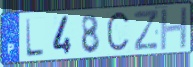4: (51, 14, 75, 58)
8: (80, 14, 102, 55)
C: (105, 9, 132, 56)
H: (159, 6, 189, 53)
L: (25, 18, 46, 58)
Z: (133, 9, 160, 53)
